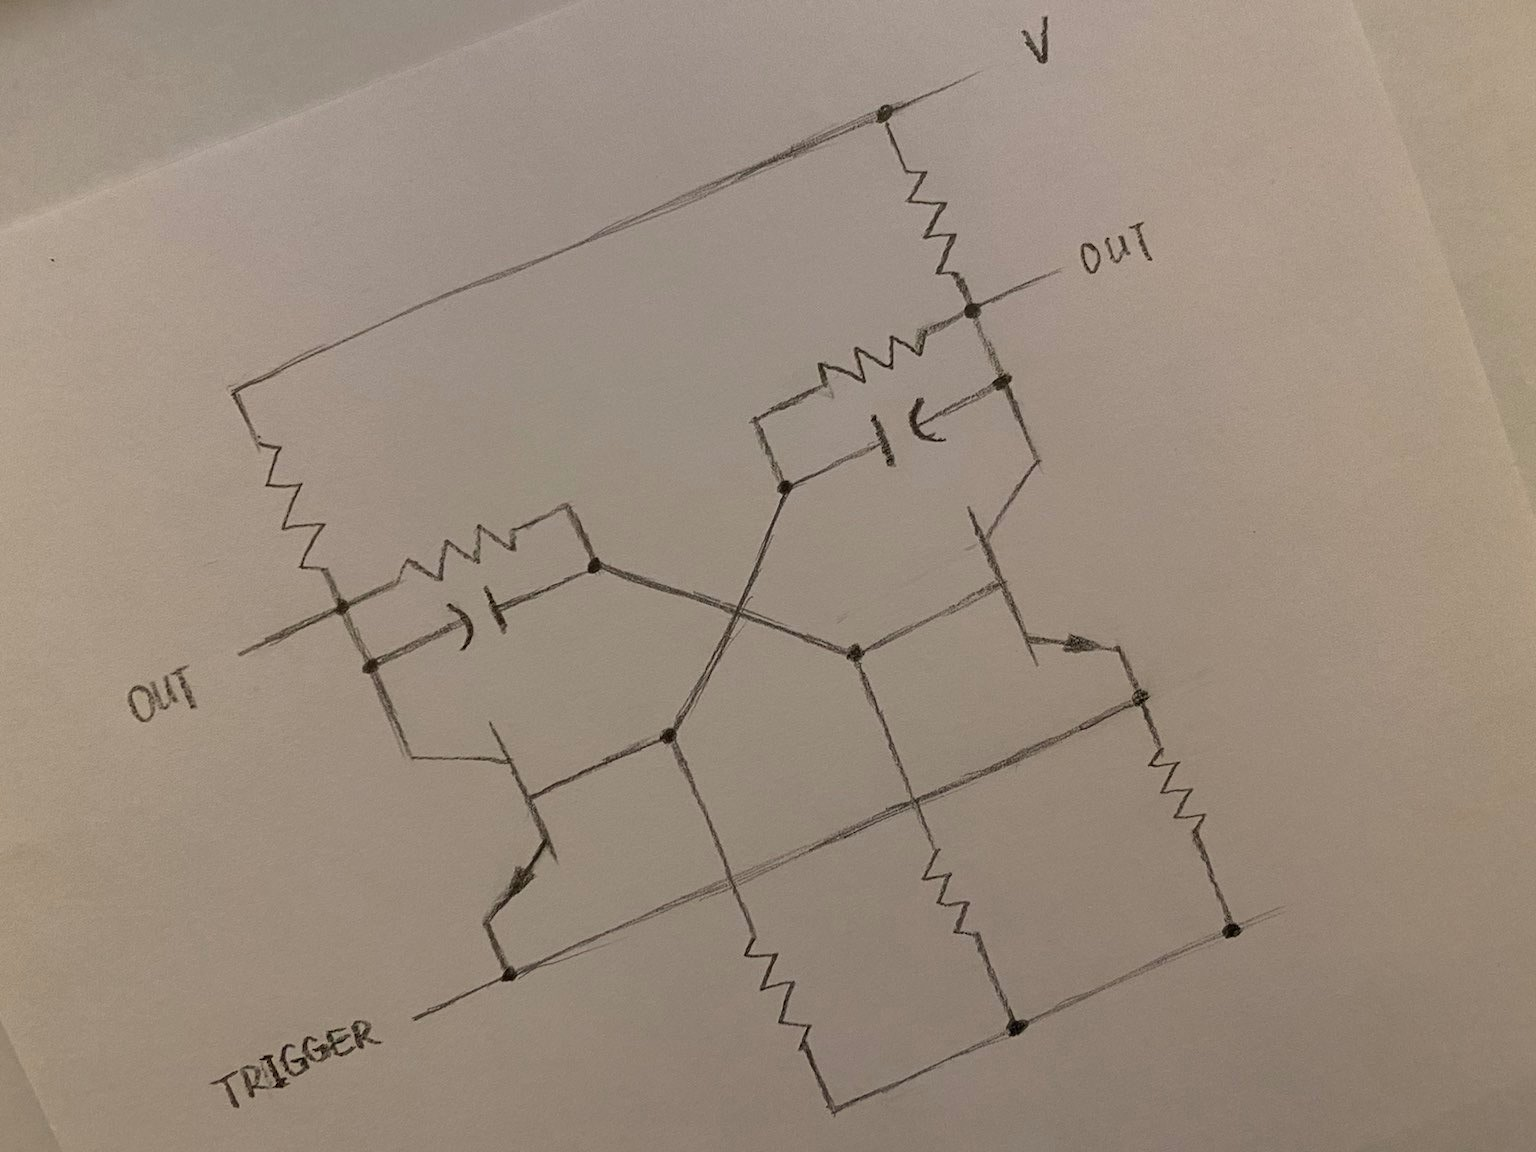capacitor.unpolarized: (862, 390, 960, 472), (435, 587, 529, 650)
crossover: (706, 583, 768, 634), (708, 856, 757, 904), (887, 778, 939, 820)
junction: (1111, 675, 1180, 722), (833, 626, 888, 681), (984, 1003, 1043, 1046), (489, 951, 537, 997), (648, 718, 699, 759), (807, 1090, 861, 1128), (982, 362, 1030, 403), (350, 647, 395, 689), (1207, 903, 1246, 951), (764, 462, 805, 506), (870, 92, 907, 134), (574, 551, 619, 584), (955, 288, 993, 327), (318, 589, 362, 621), (553, 490, 588, 528), (219, 371, 250, 409), (738, 401, 770, 434)
resistor: (246, 436, 335, 577), (735, 931, 820, 1055), (896, 162, 970, 281), (385, 524, 536, 578), (796, 328, 945, 382), (918, 843, 991, 947), (1142, 739, 1217, 840)
terminal: (391, 992, 478, 1032), (1255, 892, 1318, 935), (224, 632, 293, 666), (945, 59, 1003, 96), (1016, 254, 1072, 290)
text: (204, 1018, 377, 1102), (1074, 220, 1165, 273), (123, 664, 200, 719), (1020, 10, 1056, 67)
transistor: (388, 718, 572, 935), (958, 461, 1131, 662)
